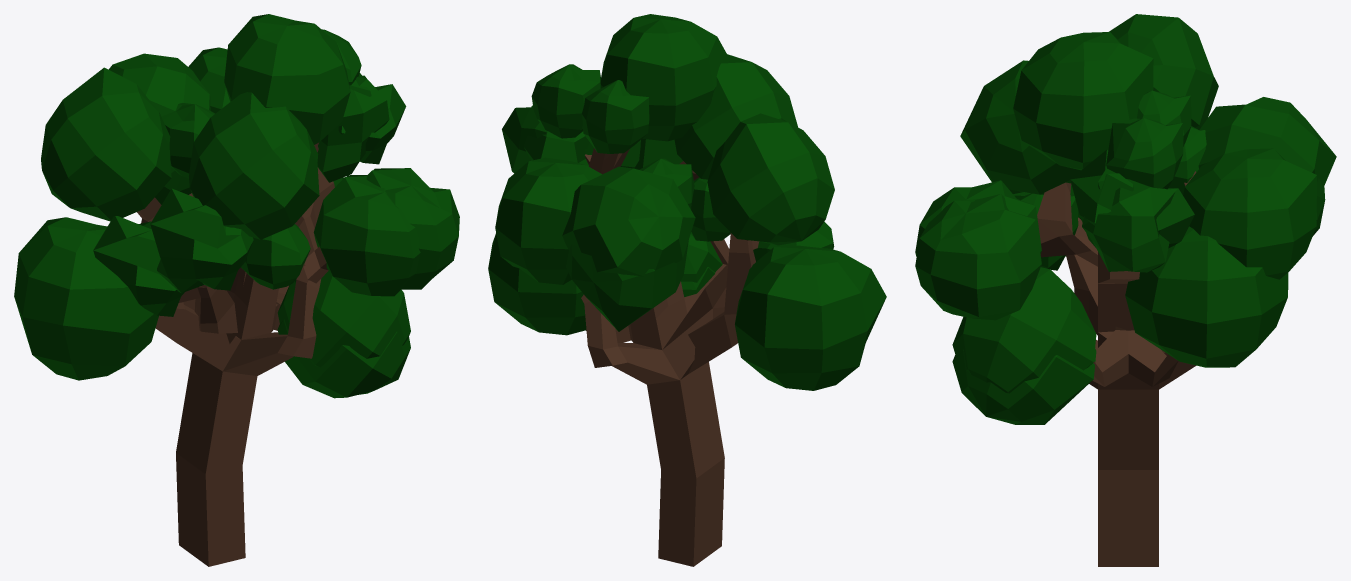
The model's file is Trees.fbx.
3 renders of one model, left to right at view 1: azimuth 30°, elevation 25°; view 2: azimuth 150°, elevation 25°; view 3: azimuth 270°, elevation 25°, orthographic. The views are drawn at different scales.
Parts seen in each view (by area): view 1: Tree, Tree.001; view 2: Tree, Tree.001; view 3: Tree.001, Tree.
Boxes of the visible parts, x1,y1,x2,y2 form: Tree: (14,47,420,550); Tree.001: (41,14,459,566); Tree: (495,54,886,566); Tree.001: (488,14,834,551); Tree.001: (915,14,1336,566); Tree: (915,60,1325,566).
Bounding box in the file's own units: 288 × 379 × 267.
